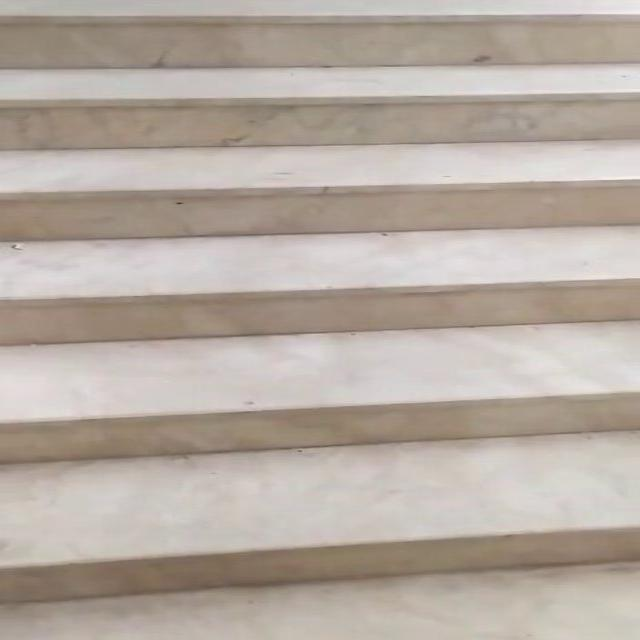stair: (4, 4, 640, 594)
